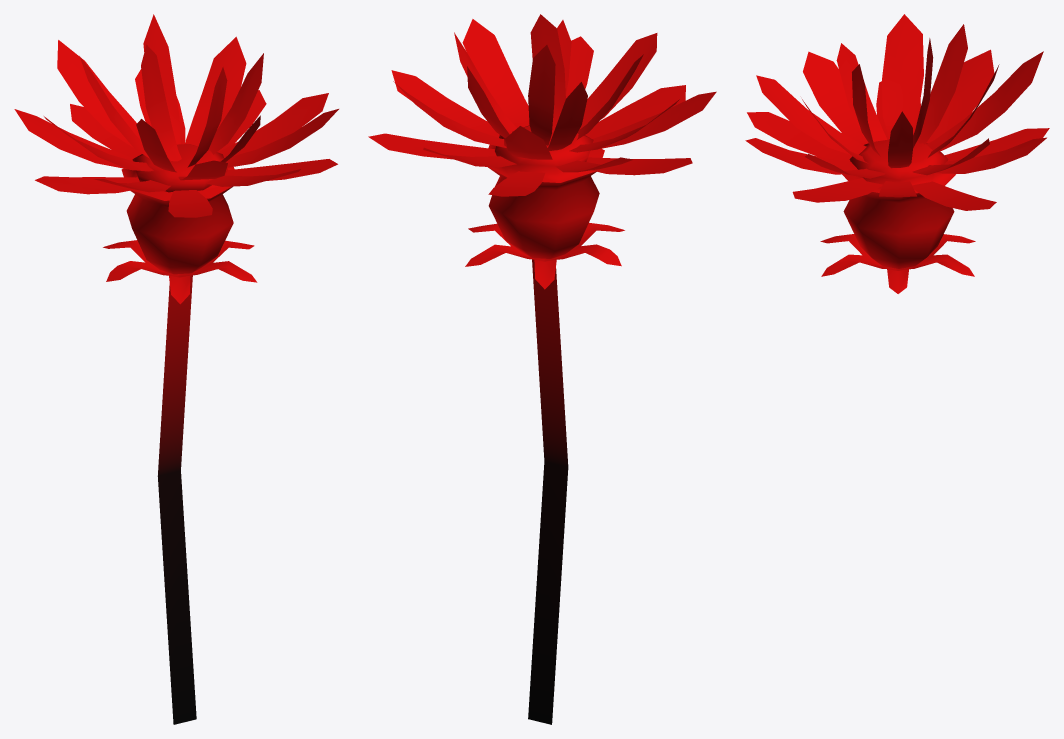
File: SM_DandelionFlower_01_LOD1.fbx
3 views of the same model, side by side, from view 1: azimuth 30°, elevation 25°; view 2: azimuth 150°, elevation 25°; view 3: azimuth 270°, elevation 25° (orthographic). The views are drawn at different scales.
Parts seen in each view (by area): view 1: SM_DandelionFlower_01_LOD1; view 2: SM_DandelionFlower_01_LOD1; view 3: SM_DandelionFlower_01_LOD1.
Part boxes in pixels (box(x1,y1,x2,y2)): SM_DandelionFlower_01_LOD1: box(14, 14, 338, 724); SM_DandelionFlower_01_LOD1: box(368, 14, 716, 724); SM_DandelionFlower_01_LOD1: box(745, 14, 1049, 293).
Bounding box in the file's own units: 51.14 × 46.11 × 112.
